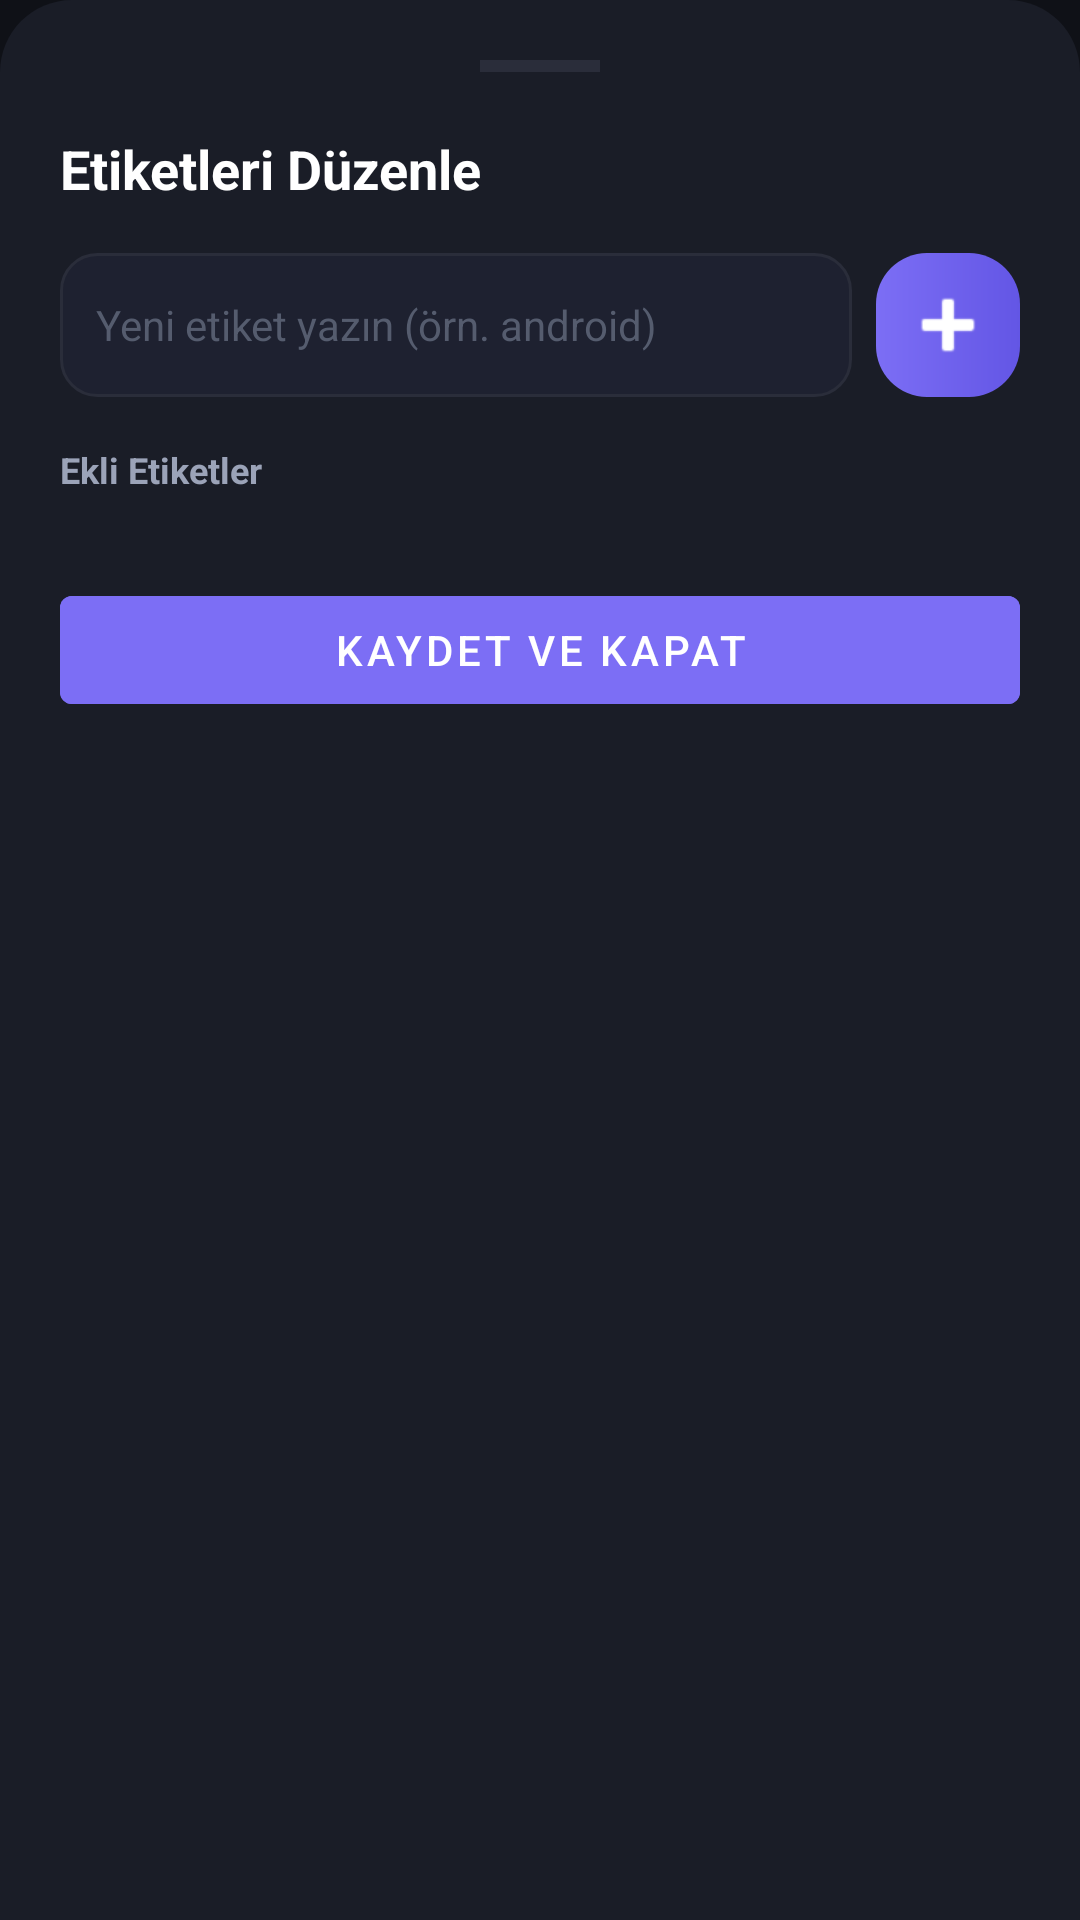

Where icons sit on this 1080w x 1920h app screen, as (x1=x1, y1=y1, x2=x2, y2=y2):
Etiket Ekle: (x1=876, y1=253, x2=1020, y2=397)
